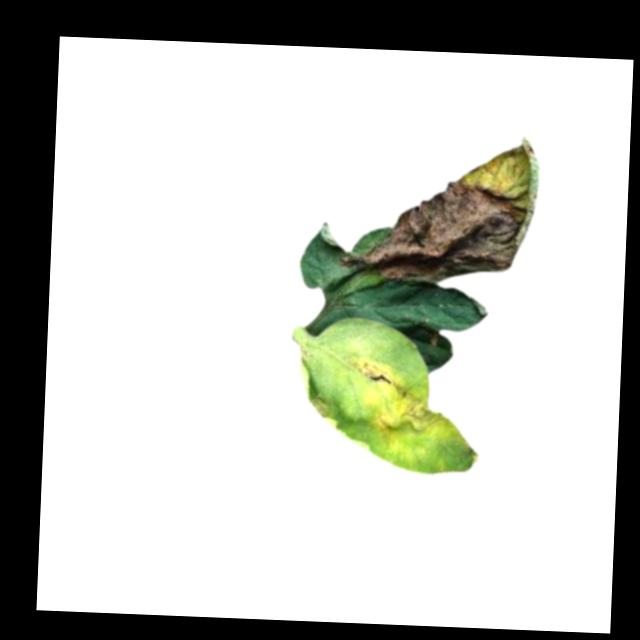Late_blight: (334, 126, 542, 290), (348, 358, 449, 441), (309, 394, 337, 423)
